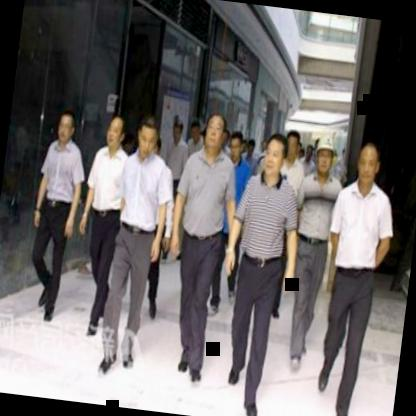head: (351, 135, 385, 191), (258, 129, 290, 180), (198, 108, 228, 158), (132, 111, 163, 158), (102, 108, 129, 152), (52, 106, 80, 146), (226, 127, 248, 164), (282, 130, 304, 166), (169, 116, 187, 147)
helmet: (309, 133, 339, 179)
